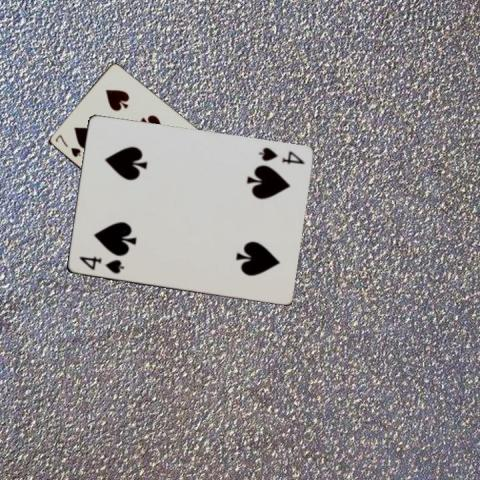4s: (255, 145, 305, 166), (76, 254, 125, 275)
7s: (52, 131, 82, 159)
